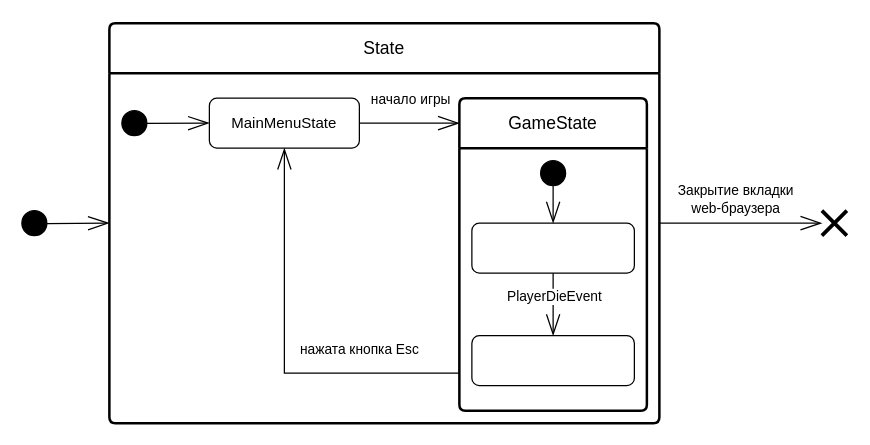
Image size: 870x445. Some labels were removed from this diagram. The shapes that lost their labels are listed below. From the top down, each one's box as (x1, y1, x2, y2) in pixels, then its label:
(471, 222, 634, 273): CommonGameState
(471, 334, 634, 386): PlayerDeadState
